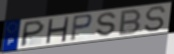B: (117, 8, 143, 37)
H: (45, 17, 71, 44)
P: (18, 19, 46, 48), (69, 13, 94, 42)
S: (143, 6, 167, 33), (96, 12, 118, 37)
